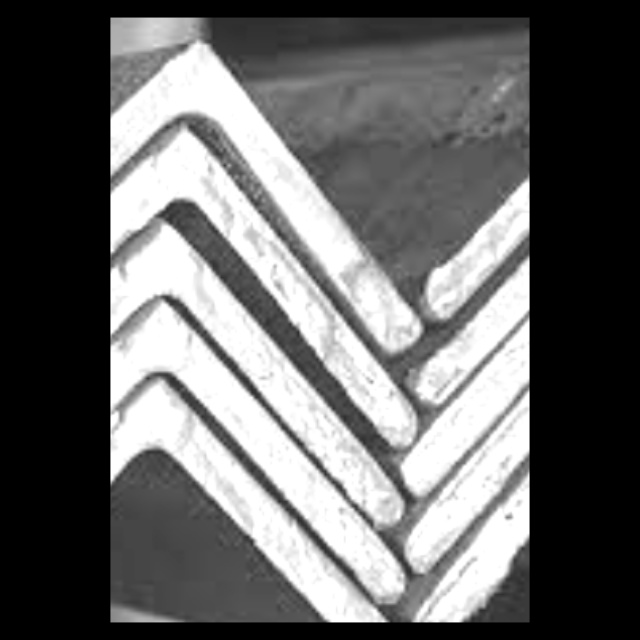Angle: (110, 160, 403, 428), (110, 66, 402, 332), (110, 252, 388, 506), (110, 326, 387, 579), (110, 417, 390, 622), (416, 236, 530, 481), (422, 310, 530, 548), (430, 378, 530, 622), (434, 160, 530, 384), (444, 60, 530, 294)
